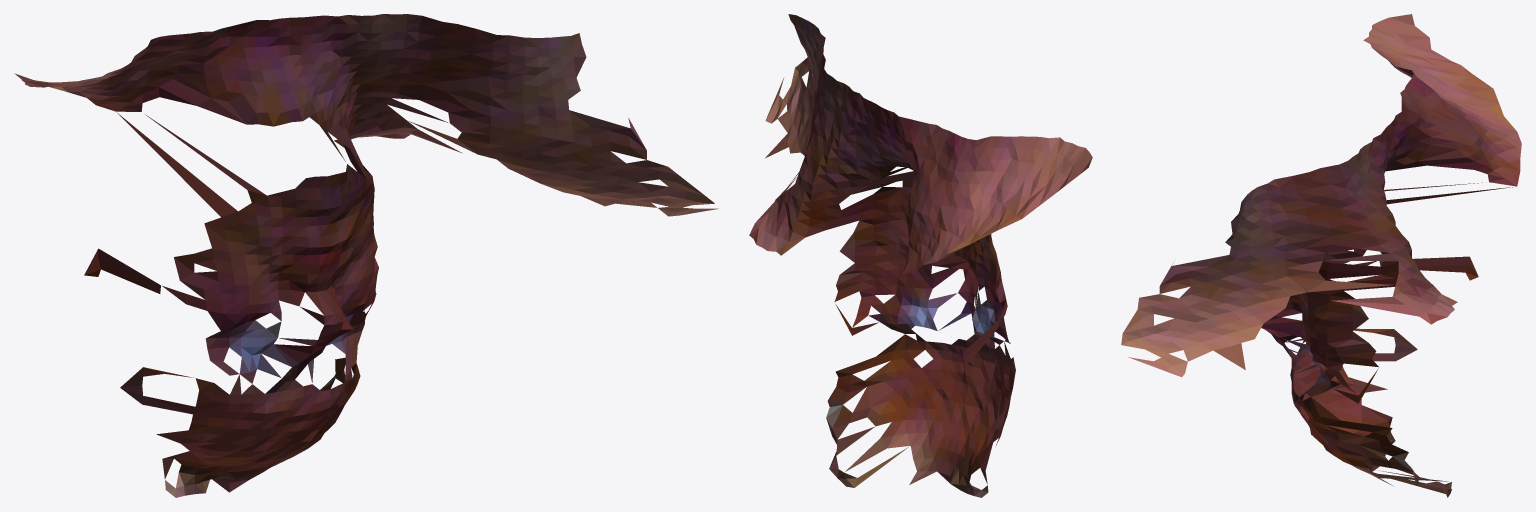
The picture shows the model from 3 angles, left to right: view 1: azimuth 30°, elevation 25°; view 2: azimuth 150°, elevation 25°; view 3: azimuth 270°, elevation 25°; orthographic projection. The views are drawn at different scales.
Visible parts, largest first — view 1: ofMesh; view 2: ofMesh; view 3: ofMesh.
Part boxes in pixels (bbox=[...]): ofMesh: bbox=[14, 14, 718, 497]; ofMesh: bbox=[749, 14, 1092, 497]; ofMesh: bbox=[1121, 14, 1521, 497].
Bounding box in the file's own units: 354 × 282 × 270.
Materials: 1 (1 with a texture image).
